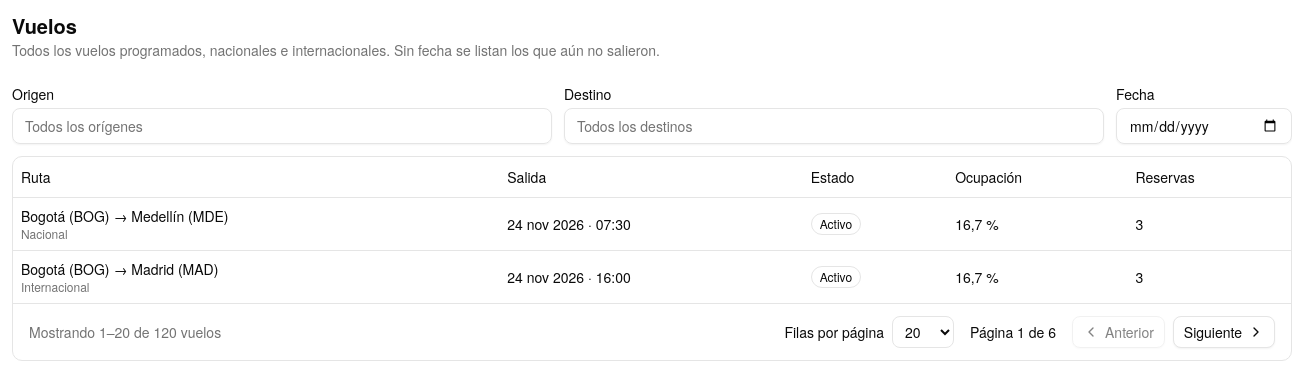
Test: sección Vuelos › cambiar las filas por página vuelve a la página 1
Check: the text "Mostrando 1–20 de 120 vuelos" is shown, box [29,322,221,342]
Click the button "Siguiente".
click(1224, 332)  # box [1173,316,1275,348]
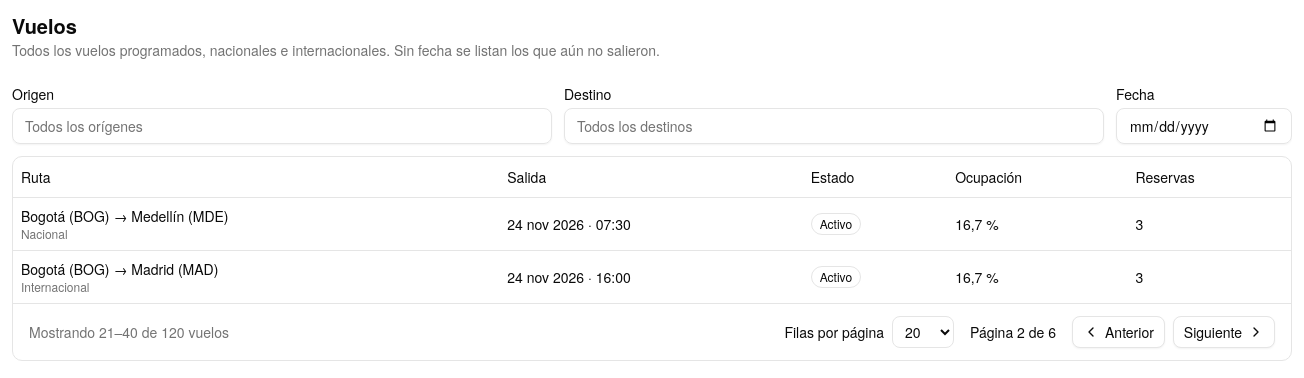
Check: the text "Mostrando 21–40 de 120 vuelos" is shown, box [29,322,229,342]
Select "50" in the dropdown labelled "Filas por página" at (923, 332), box [892,316,954,348]
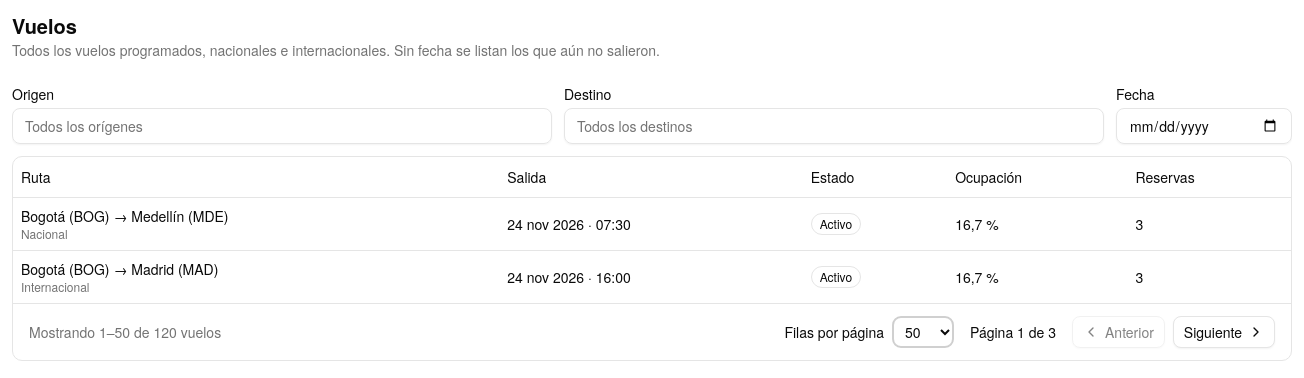
Check: the text "Mostrando 1–50 de 120 vuelos" is shown, box [29,322,221,342]
